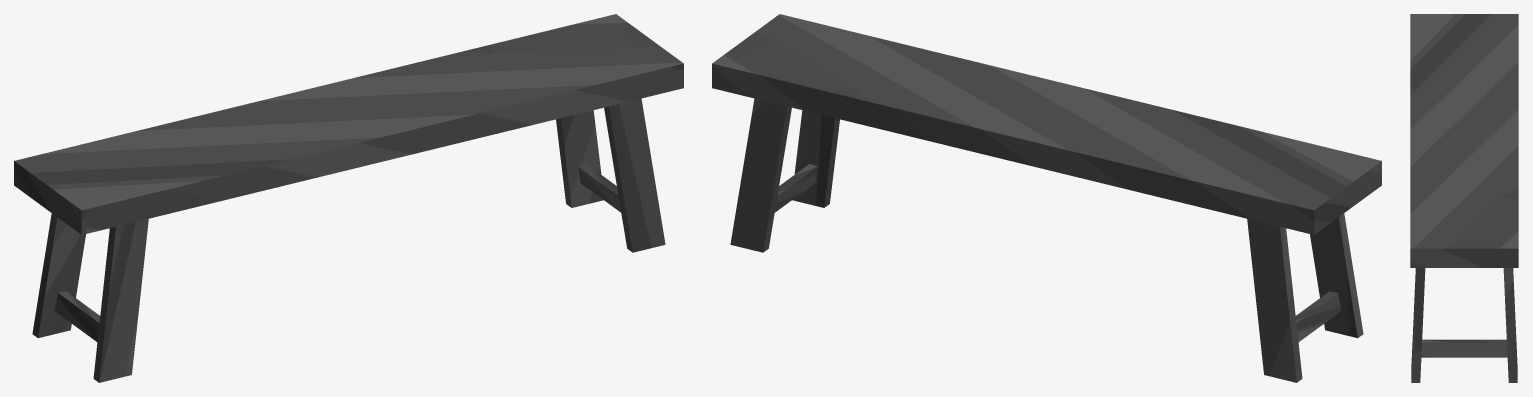
The model's file is Bench.glb.
The picture shows the model from 3 angles, left to right: view 1: azimuth 30°, elevation 25°; view 2: azimuth 150°, elevation 25°; view 3: azimuth 270°, elevation 25°; orthographic projection. The views are drawn at different scales.
Visible parts, largest first — view 1: Bench; view 2: Bench; view 3: Bench.
Part boxes in pixels (x1,y1,x2,y2): Bench: [14, 14, 683, 382]; Bench: [712, 14, 1381, 382]; Bench: [1410, 14, 1518, 382].
Bounding box in the file's own units: 2 × 0.5625 × 0.3895.
Materials: 1 (1 with a texture image).
